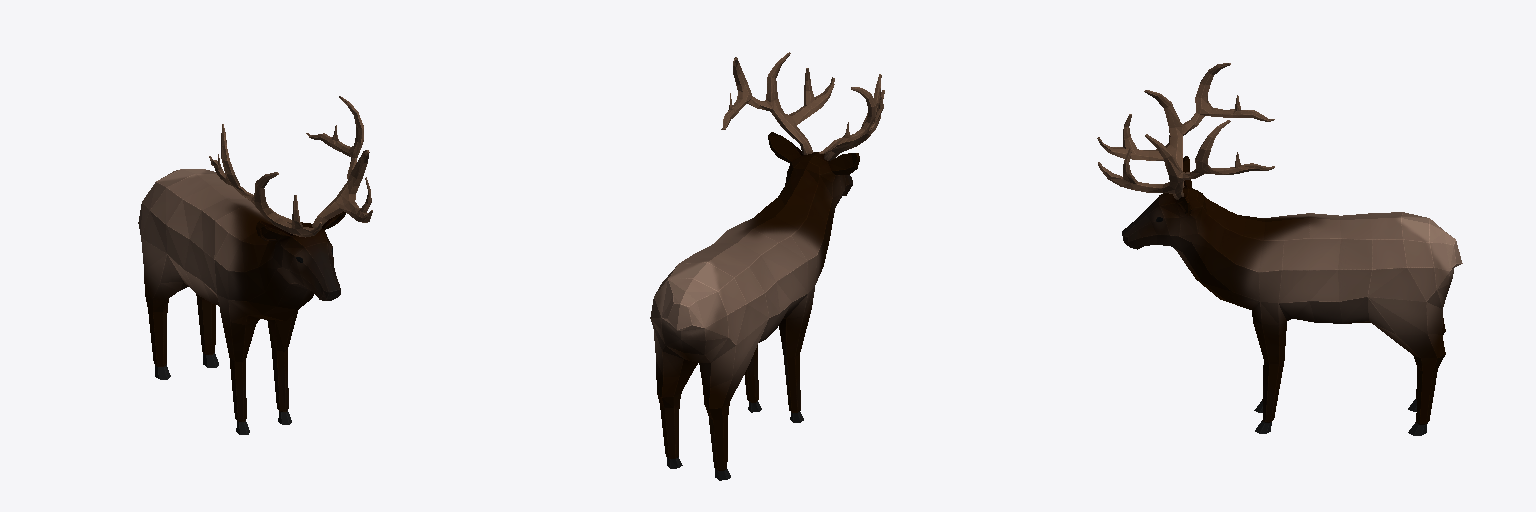
The picture shows the model from 3 angles: view 1: azimuth 30°, elevation 25°; view 2: azimuth 150°, elevation 25°; view 3: azimuth 270°, elevation 25°; orthographic projection.
Visible parts, largest first — view 1: Elk_mesh; view 2: Elk_mesh; view 3: Elk_mesh.
Part boxes in pixels (bbox=[...]): Elk_mesh: bbox=[138, 96, 372, 434]; Elk_mesh: bbox=[650, 52, 884, 480]; Elk_mesh: bbox=[1097, 63, 1462, 435].
Size of the model in its own units: 7.04 by 15.74 by 15.79.
1 materials, 1 textured.